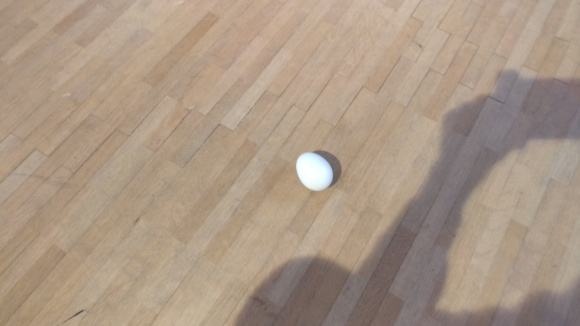egg: (296, 152, 334, 192)
